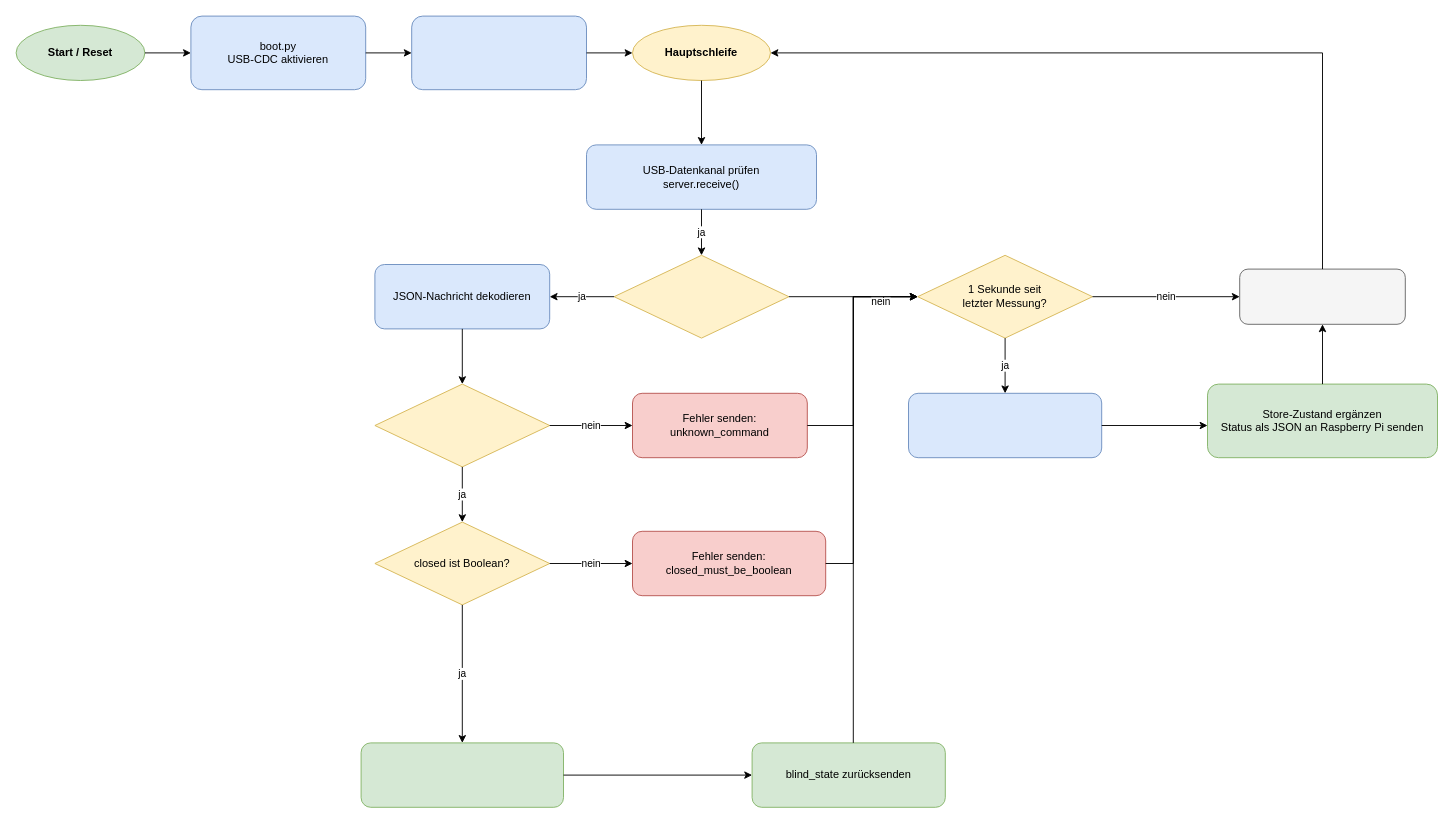
This 1454x823 diagram has some shape labels left out. The shapes that lost their labels are listed below. From the top down, each one's centre as x and y in pixels, then its label:
At point 498,52: "code.py Store öffnen NeoPixel grün".
At point 701,296: "Nachricht vorhanden?".
At point 1322,296: "10 ms warten".
At point 462,425: "Typ = set_blind?".
At point 1005,425: "sensor.read() Temperatur + Licht lesen".
At point 462,774: "blind.set_closed() NeoPixel aktualisieren".
